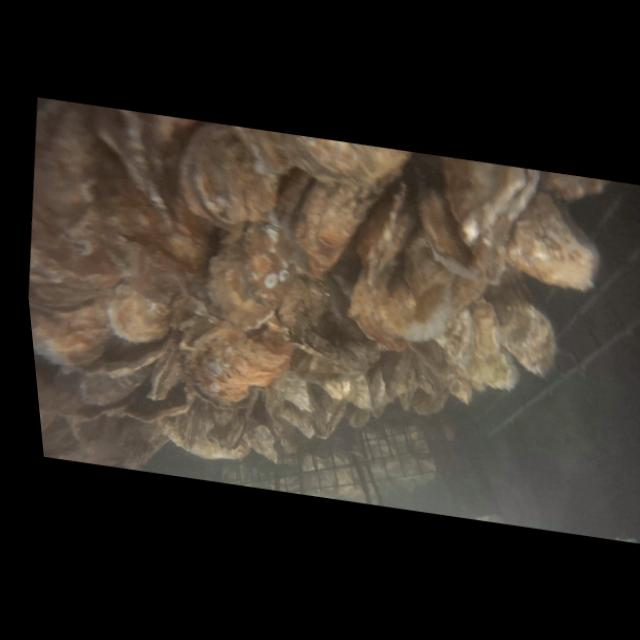Oyster-Closed: (330, 208, 506, 366), (164, 118, 290, 238), (270, 162, 389, 287), (193, 212, 309, 337), (167, 310, 301, 418), (262, 269, 392, 372), (494, 184, 613, 293), (429, 156, 548, 256), (257, 130, 414, 197), (348, 173, 430, 289), (142, 336, 192, 408), (257, 395, 305, 458), (310, 387, 355, 447), (214, 406, 251, 453)
Oyster-Indeterminate: (404, 183, 520, 289), (423, 290, 528, 395), (474, 271, 573, 382), (69, 325, 182, 415), (99, 279, 179, 350), (169, 395, 223, 457), (240, 403, 293, 466), (400, 360, 455, 419), (375, 345, 420, 403), (275, 369, 321, 416), (404, 348, 447, 398), (360, 367, 397, 423), (273, 398, 320, 442), (440, 365, 479, 408), (337, 372, 377, 412), (343, 401, 375, 433)
